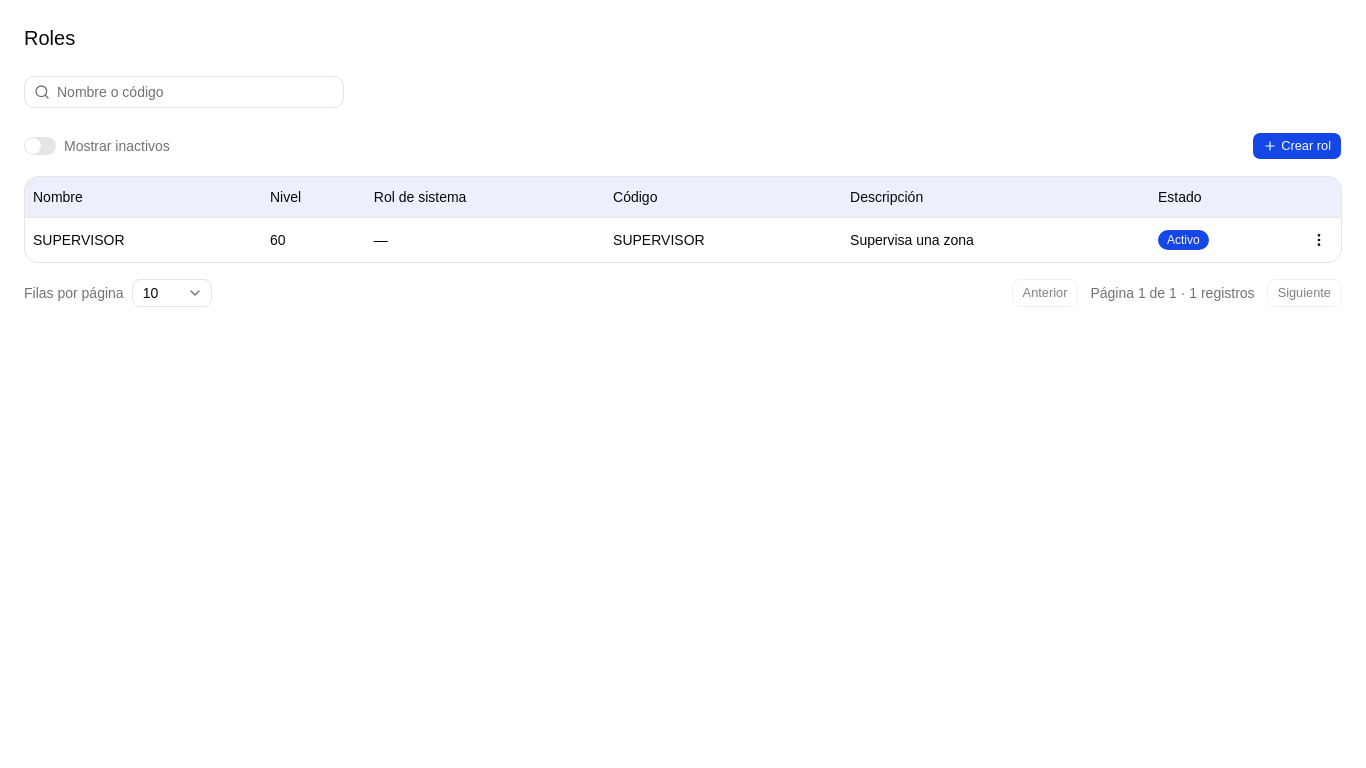
Test: AppRoleListPage — la auditoría › con SUPERADMIN, «Ver auditoría» pide el detalle y pinta el historial
Step 1. Click the button named "Acciones de la fila" → (1319, 240), box [1305,226,1333,254]
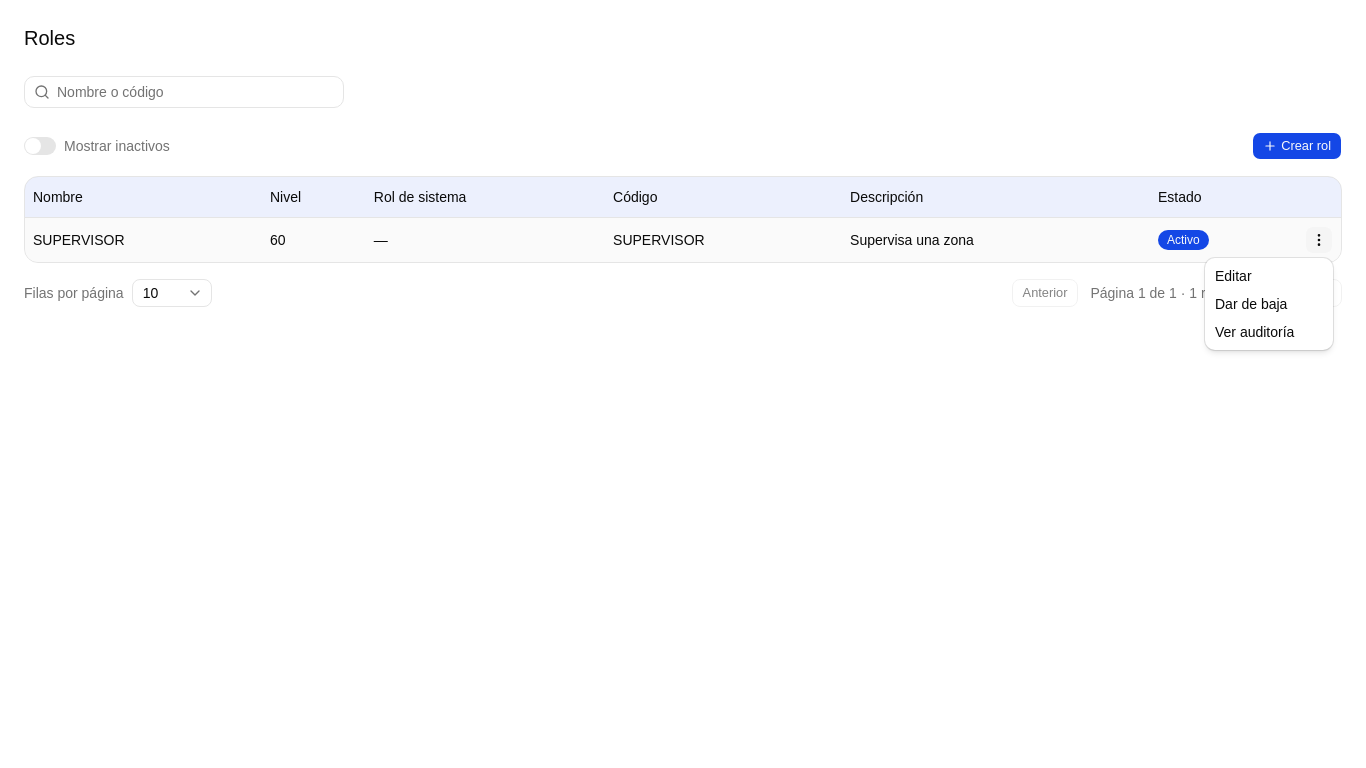
Step 2. Click the menu item "Ver auditoría" → (1255, 332), box [1215,324,1294,340]
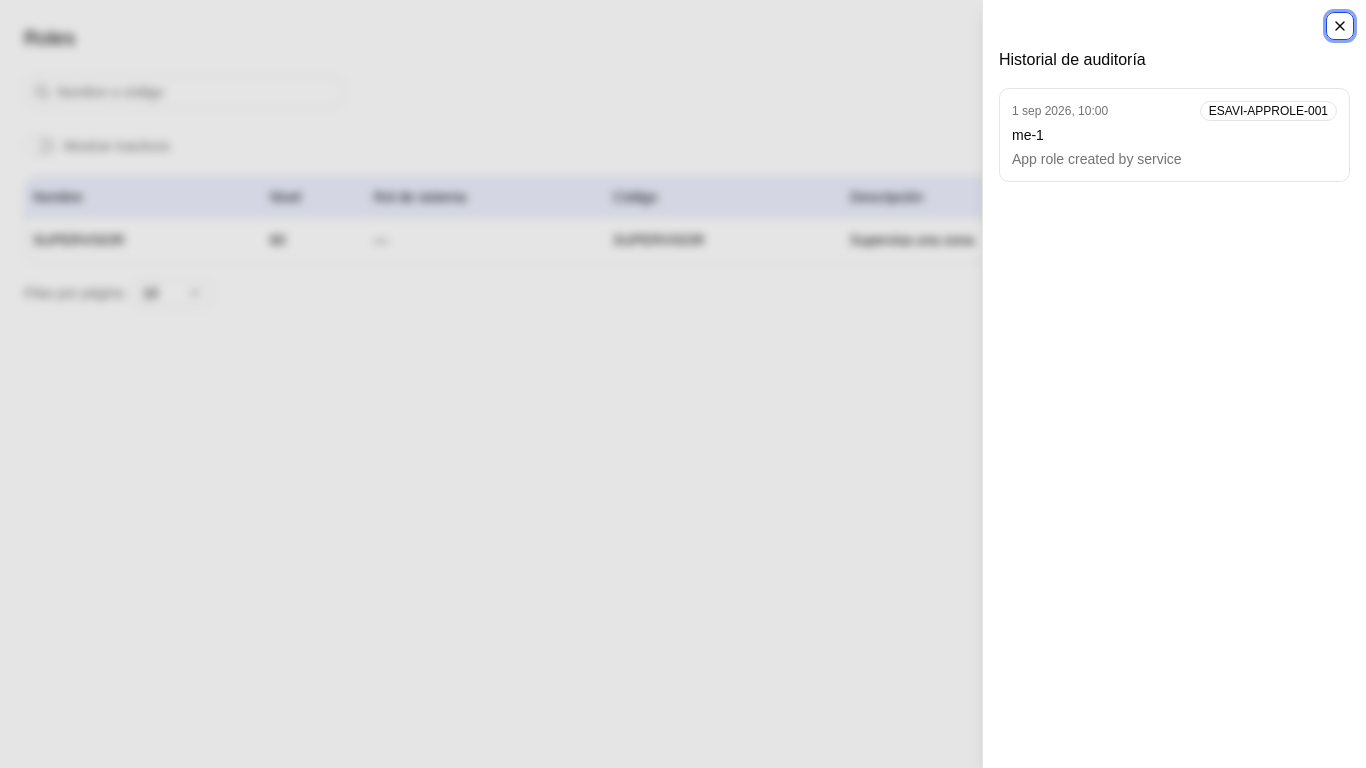
Result: the text "ESAVI-APPROLE-001" is shown at [1200,101,1337,121]
